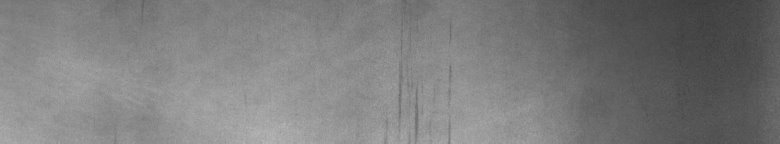ka: (397, 66, 452, 136)
